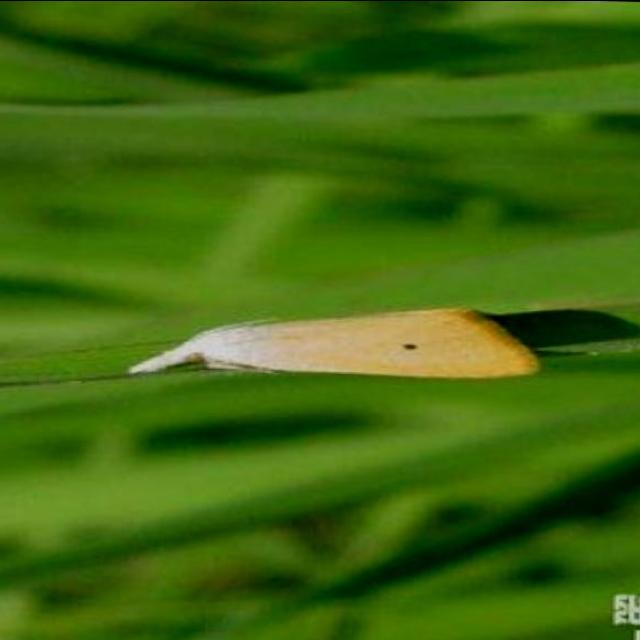stem borer: (138, 308, 538, 376)
